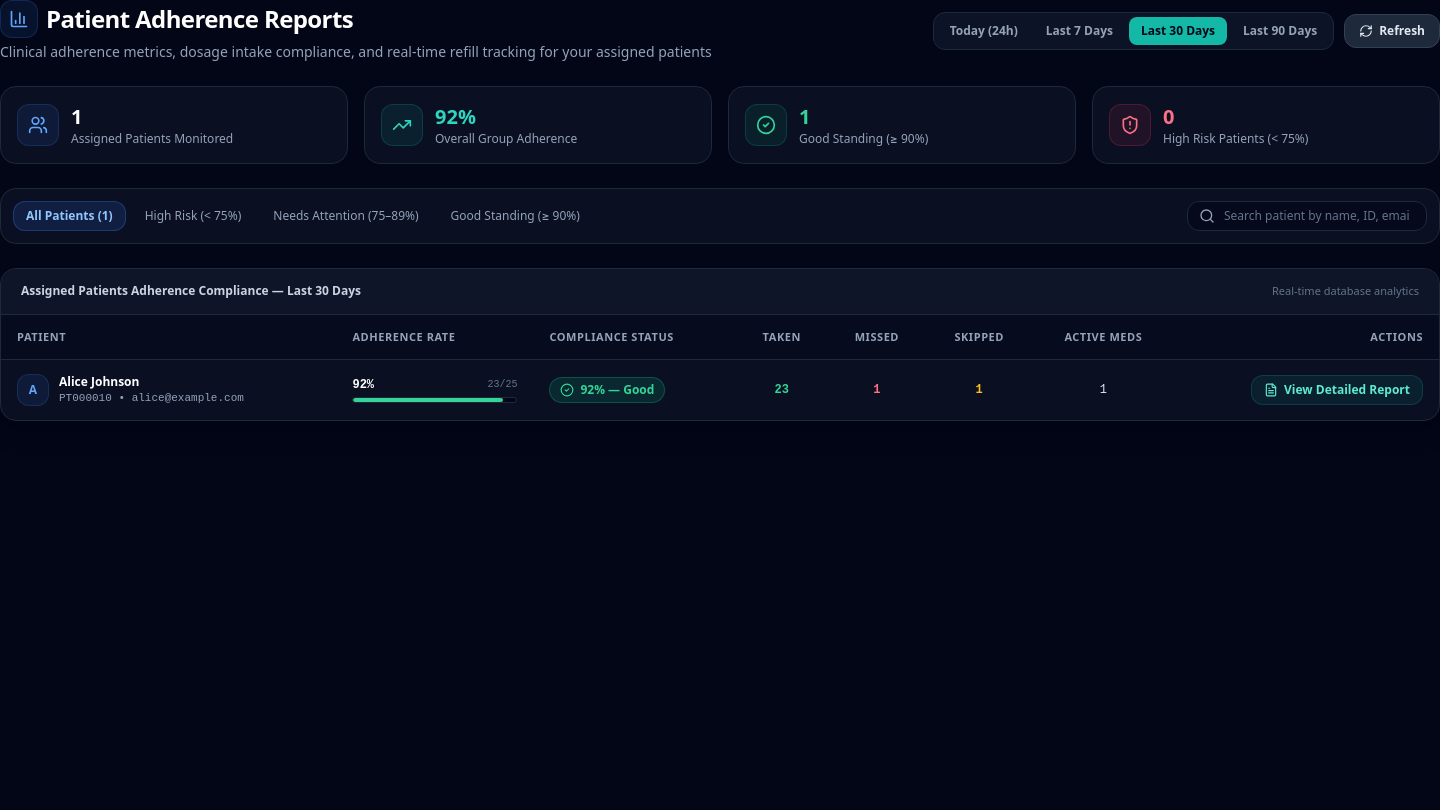
Test case: CaregiverAdherenceReports Component › loads detailed patient report when clicking View Detailed Report
The image size is (1440, 810).
Check: the text "Alice Johnson" is shown, box [59,373,139,390]
Step 1. Click the button "View Detailed Report" → click(1337, 390), box [1251,375,1423,405]
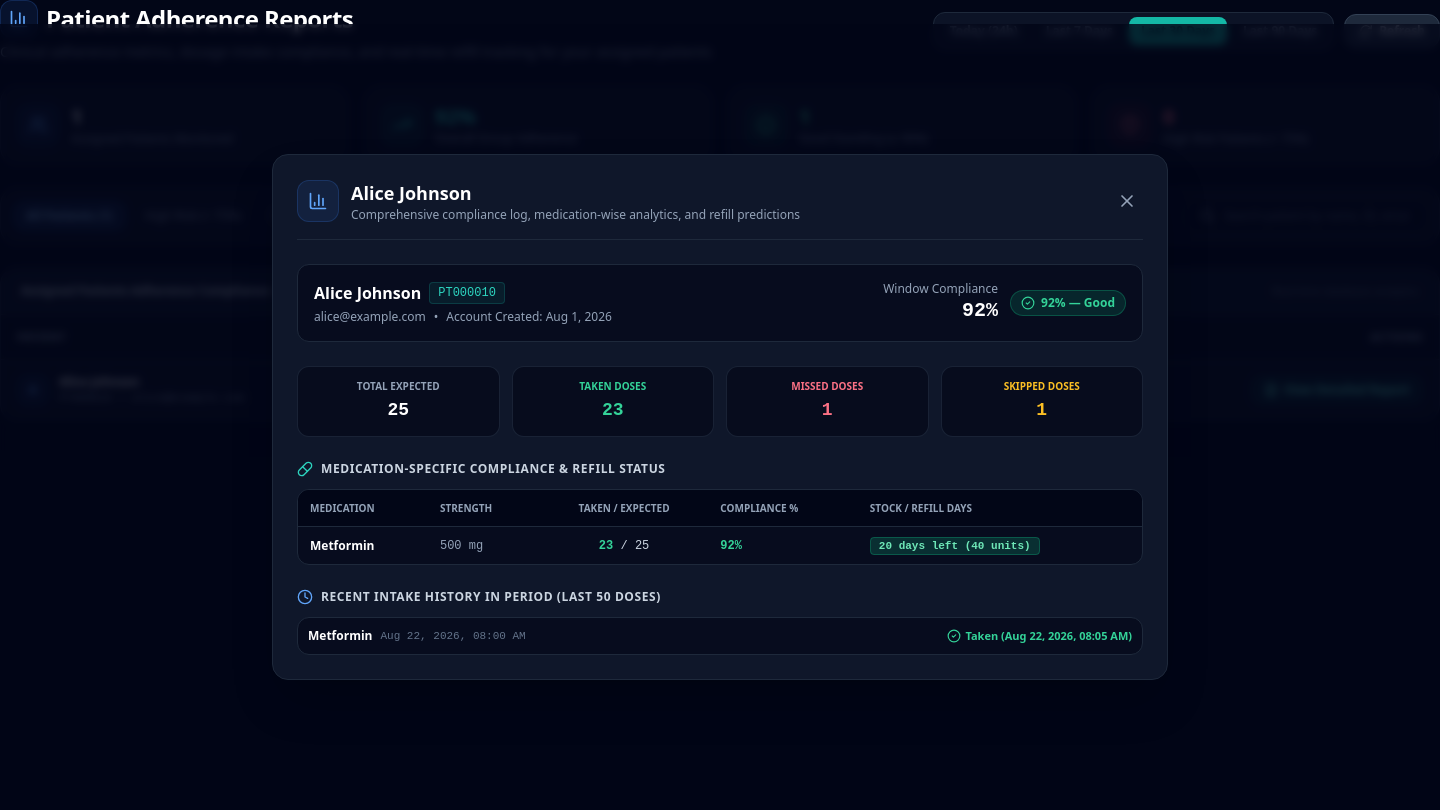
Check: the text "Medication-Specific Compliance & Refill Status" is shown, box [321,461,666,477]
Check: the text "20 days left (40 units)" is shown, box [870,537,1040,555]
